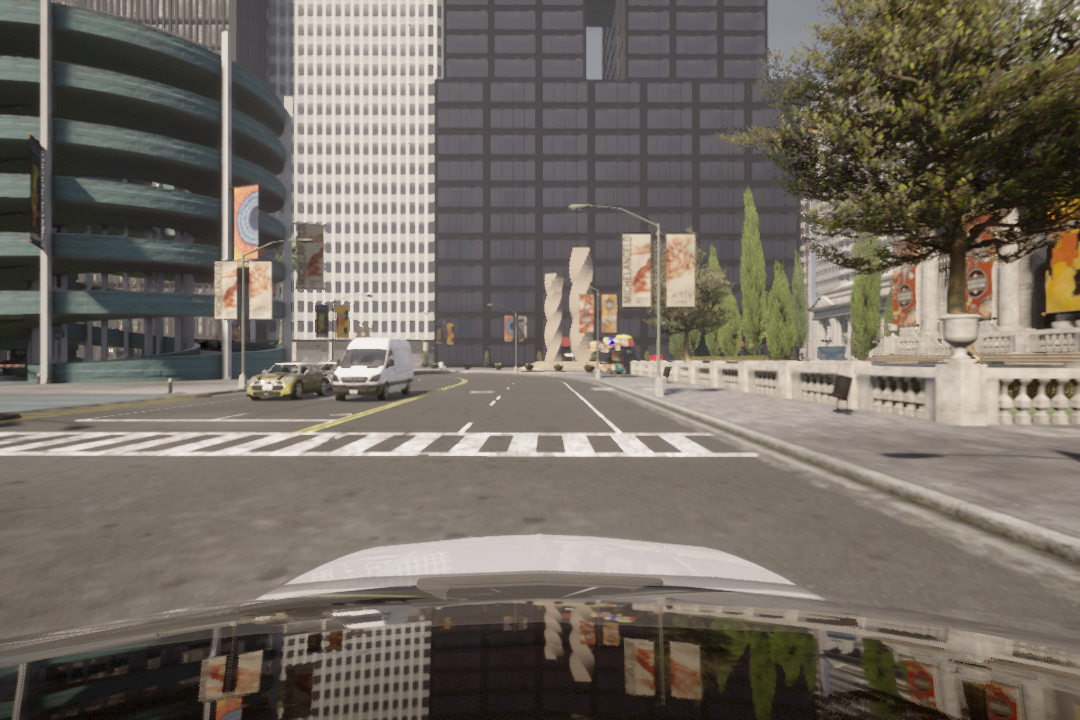walkside: (2, 427, 777, 470)
